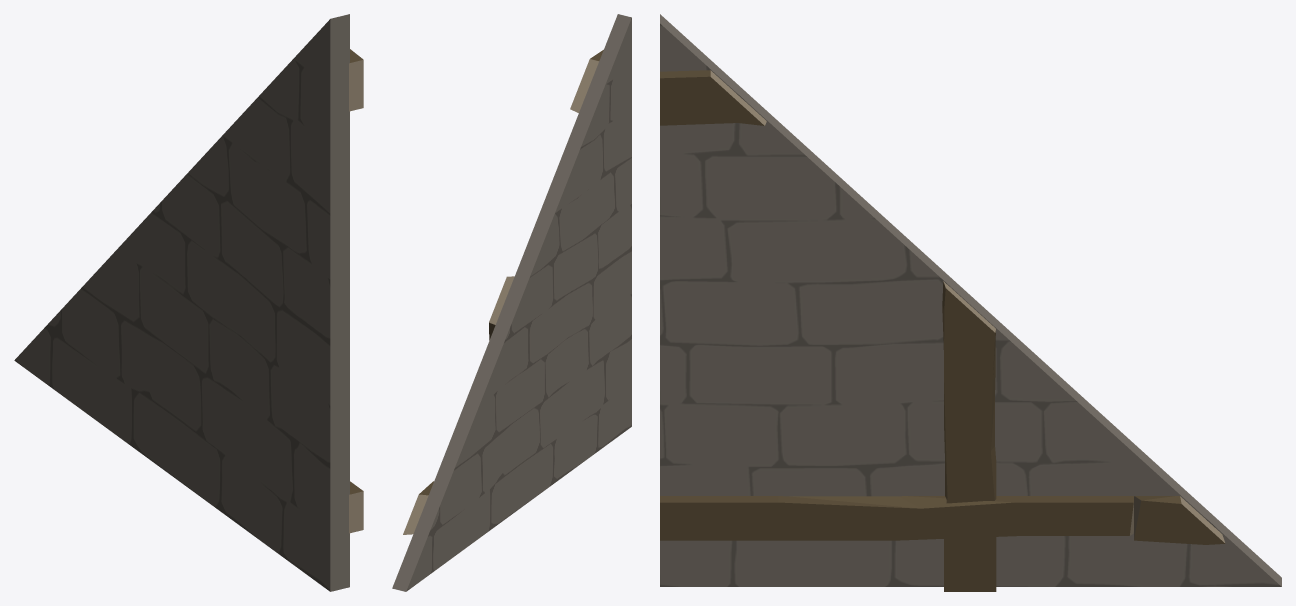
The model's file is SM_Polygonal_Stone_Tri_Wall_Left.fbx.
3 views of the same model, side by side, from view 1: azimuth 30°, elevation 25°; view 2: azimuth 150°, elevation 25°; view 3: azimuth 270°, elevation 25° (orthographic). The views are drawn at different scales.
Parts seen in each view (by area): view 1: SM_Polygonal_Stone_Tri_Wall_Left_LOD0; view 2: SM_Polygonal_Stone_Tri_Wall_Left_LOD0; view 3: SM_Polygonal_Stone_Tri_Wall_Left_LOD0.
Boxes of the visible parts, <box> form: SM_Polygonal_Stone_Tri_Wall_Left_LOD0: <box>14,14,363,591</box>; SM_Polygonal_Stone_Tri_Wall_Left_LOD0: <box>392,14,631,591</box>; SM_Polygonal_Stone_Tri_Wall_Left_LOD0: <box>660,14,1281,591</box>.
Bounding box in the file's own units: 18.27 × 300 × 300.
Materials: 1 (1 with a texture image).
